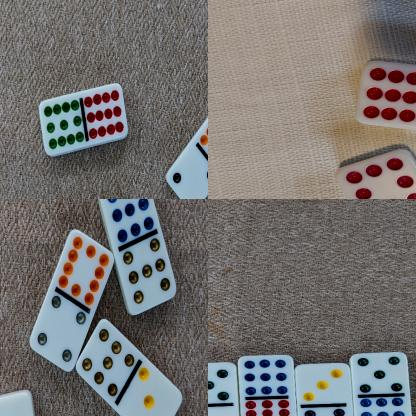pip-1: (0, 391, 38, 416)
pip-10: (59, 229, 115, 307)
pip-11: (40, 97, 85, 156)
pip-12: (358, 61, 416, 129), (84, 84, 129, 145), (240, 398, 298, 416)
pip-2: (167, 153, 208, 199)
pip-3: (128, 367, 183, 416), (295, 364, 354, 408)
pip-4: (30, 296, 86, 372)
pip-5: (350, 352, 410, 396), (208, 363, 238, 406)
pip-6: (298, 406, 355, 416)
pip-7: (76, 320, 135, 398), (123, 238, 177, 315)
pip-8: (335, 151, 416, 199)
pip-9: (238, 355, 294, 399), (99, 199, 154, 242), (355, 396, 413, 416)
